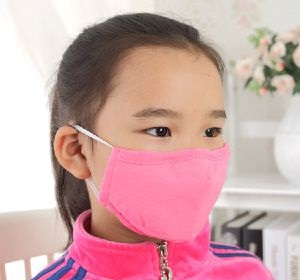face_mask: (92, 48, 232, 237)
